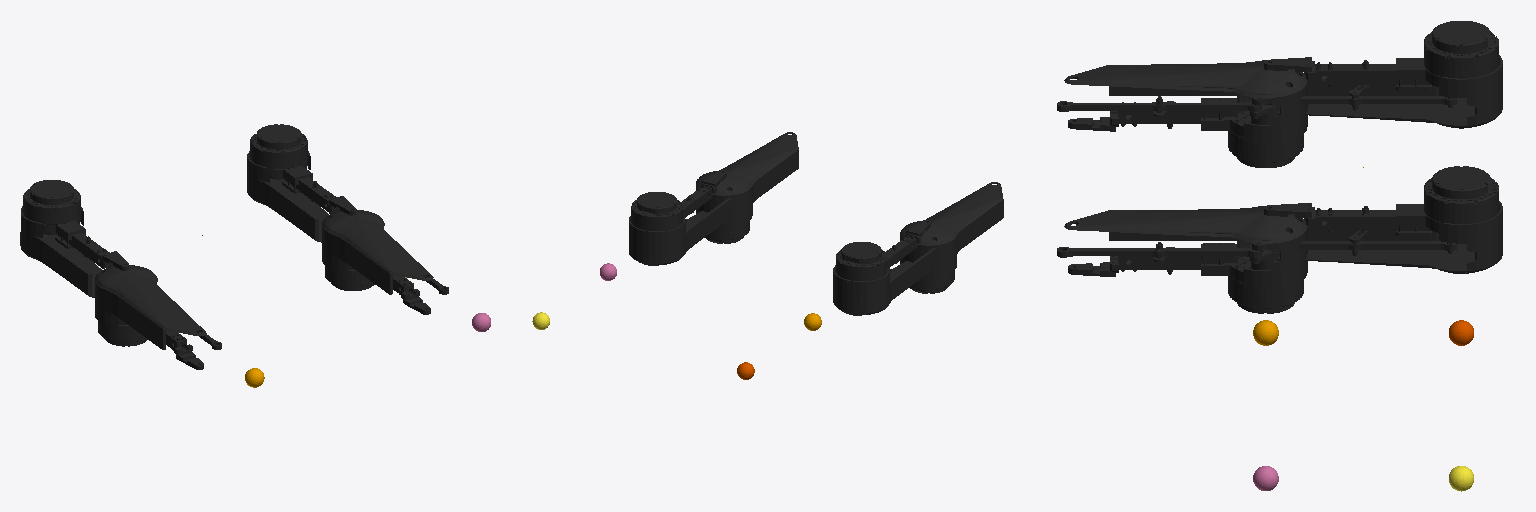
URDF robot description (laikago_description):
<?xml version="1.0" ?>
<robot name="laikago_description" xmlns:xacro="http://www.ros.org/wiki/xacro">
  <material name="black">
    <color rgba="0.0 0.0 0.0 1.0"/>
  </material>
  <material name="blue">
    <color rgba="0.0 0.0 0.8 1.0"/>
  </material>
  <material name="green">
    <color rgba="0.0 0.8 0.0 1.0"/>
  </material>
  <material name="grey">
    <color rgba="0.2 0.2 0.2 1.0"/>
  </material>
  <material name="silver">
    <color rgba="0.913725490196 0.913725490196 0.847058823529 1.0"/>
  </material>
  <material name="orange">
    <color rgba="1.0 0.423529411765 0.0392156862745 1.0"/>
  </material>
  <material name="brown">
    <color rgba="0.870588235294 0.811764705882 0.764705882353 1.0"/>
  </material>
  <material name="red">
    <color rgba="0.8 0.0 0.0 1.0"/>
  </material>
  <material name="white">
    <color rgba="1.0 1.0 1.0 1.0"/>
  </material>
  <link name="base">
    <visual>
      <origin rpy="0 0 0" xyz="0 0 0"/>
      <geometry>
        <box size="0.001 0.001 0.001"/>
      </geometry>
    </visual>
  </link>
  <joint name="floating_base" type="fixed">
    <origin rpy="0 0 0" xyz="0 0 0"/>
    <parent link="base"/>
    <child link="trunk"/>
  </joint>
  <link name="trunk">
    <visual>
      <origin rpy="0 0 0" xyz="0 0 0"/>
      <geometry>
        <mesh filename="../meshes/trunk.dae" scale="1 1 1"/>
      </geometry>
      <material name="grey"/>
    </visual>
    <collision>
      <origin rpy="0 0 0" xyz="0 0 0.01675"/>
      <geometry>
        <box size="0.5616 0.172 0.1875"/>
      </geometry>
    </collision>
    <inertial>
      <origin rpy="0 0 0" xyz="0.002284 -4.1e-05 0.025165"/>
      <mass value="13.733"/>
      <inertia ixx="0.073348887" ixy="0.00030338" ixz="0.001918218" iyy="0.250684593" iyz="-7.5402e-05" izz="0.254469458"/>
    </inertial>
  </link>
  <joint name="FR_hip_joint" type="revolute">
    <origin rpy="0 0 0" xyz="0.21935 -0.0875 0"/>
    <parent link="trunk"/>
    <child link="FR_hip"/>
    <axis xyz="1 0 0"/>
    <dynamics damping="0" friction="0"/>
    <limit effort="20" lower="-1.0471975512" upper="0.872664625997" velocity="52.4"/>
  </joint>
  <link name="FR_hip">
    <visual>
      <origin rpy="1.57079632679 0 0" xyz="0 0 0"/>
      <geometry>
        <mesh filename="../meshes/hip.dae" scale="1 1 1"/>
      </geometry>
      <material name="grey"/>
    </visual>
    <collision>
      <origin rpy="1.57079632679 0 0" xyz="0 0.021 0"/>
      <geometry>
        <cylinder length="0.08" radius="0.041"/>
      </geometry>
    </collision>
    <inertial>
      <origin rpy="0 0 0" xyz="-0.001568 0.008134 0.000864"/>
      <mass value="1.096"/>
      <inertia ixx="0.000822113" ixy="4.982e-06" ixz="-3.672e-05" iyy="0.000983196" iyz="-2.811e-06" izz="0.000864753"/>
    </inertial>
  </link>
  <joint name="FR_hip_fixed" type="fixed">
    <origin rpy="0 0 0" xyz="0 -0.059 0"/>
    <parent link="FR_hip"/>
    <child link="FR_thigh_shoulder"/>
  </joint>
  <!-- this link is only for collision -->
  <link name="FR_thigh_shoulder">
    <collision>
      <origin rpy="1.57079632679 0 0" xyz="0 0 0"/>
      <geometry>
        <cylinder length="0.08" radius="0.044"/>
      </geometry>
    </collision>
  </link>
  <joint name="FR_thigh_joint" type="revolute">
    <origin rpy="0 0 0" xyz="0 -0.037 0"/>
    <parent link="FR_hip"/>
    <child link="FR_thigh"/>
    <axis xyz="0 1 0"/>
    <dynamics damping="0" friction="0"/>
    <limit effort="55" lower="-0.523598775598" upper="3.92699081699" velocity="28.6"/>
  </joint>
  <link name="FR_thigh">
    <visual>
      <origin rpy="-1.57079632679 0 0" xyz="0 0 0"/>
      <geometry>
        <mesh filename="../meshes/thigh_mirror.dae" scale="1 1 1"/>
      </geometry>
      <material name="grey"/>
    </visual>
    <collision>
      <origin rpy="0 1.57079632679 0" xyz="0 0 -0.125"/>
      <geometry>
        <box size="0.25 0.034 0.043"/>
      </geometry>
    </collision>
    <inertial>
      <origin rpy="0 0 0" xyz="-0.000482 -0.02001 -0.031996"/>
      <mass value="1.528"/>
      <inertia ixx="0.00991611" ixy="-1.0388e-05" ixz="0.000250428" iyy="0.009280083" iyz="8.511e-05" izz="0.00178256"/>
    </inertial>
  </link>
  <joint name="FR_calf_joint" type="revolute">
    <origin rpy="0 0 0" xyz="0 0 -0.25"/>
    <parent link="FR_thigh"/>
    <child link="FR_calf"/>
    <axis xyz="0 1 0"/>
    <dynamics damping="0" friction="0"/>
    <limit effort="55" lower="-2.77507351067" upper="-0.610865238198" velocity="28.6"/>
  </joint>
  <link name="FR_calf">
    <visual>
      <origin rpy="0 0 0" xyz="0 0 0"/>
      <geometry>
        <mesh filename="../meshes/calf.dae" scale="1 1 1"/>
      </geometry>
      <material name="silver"/>
    </visual>
    <collision>
      <origin rpy="0 1.57079632679 0" xyz="0 0 -0.125"/>
      <geometry>
        <box size="0.25 0.016 0.016"/>
      </geometry>
    </collision>
    <inertial>
      <origin rpy="0 0 0" xyz="-0.002196 -0.000381 -0.12338"/>
      <mass value="0.241"/>
      <inertia ixx="0.006181961" ixy="2.37e-07" ixz="-2.985e-06" iyy="0.006196546" iyz="5.138e-06" izz="3.4774e-05"/>
    </inertial>
  </link>
  <joint name="FR_foot_fixed" type="fixed" dont_collapse="true">
    <origin rpy="0 0 0" xyz="0 0 -0.25"/>
    <parent link="FR_calf"/>
    <child link="FR_foot"/>
  </joint>
  <link name="FR_foot">
    <visual>
      <origin rpy="0 0 0" xyz="0 0 0"/>
      <geometry>
        <sphere radius="0.0165"/>
      </geometry>
    </visual>
    <collision>
      <origin rpy="0 0 0" xyz="0 0 0"/>
      <geometry>
        <sphere radius="0.0265"/>
      </geometry>
    </collision>
    <inertial>
      <mass value="0.06"/>
      <inertia ixx="1.6854e-05" ixy="0.0" ixz="0.0" iyy="1.6854e-05" iyz="0.0" izz="1.6854e-05"/>
    </inertial>
  </link>

  <joint name="FL_hip_joint" type="revolute">
    <origin rpy="0 0 0" xyz="0.21935 0.0875 0"/>
    <parent link="trunk"/>
    <child link="FL_hip"/>
    <axis xyz="1 0 0"/>
    <dynamics damping="0" friction="0"/>
    <limit effort="20" lower="-0.872664625997" upper="1.0471975512" velocity="52.4"/>
  </joint>
  <link name="FL_hip">
    <visual>
      <origin rpy="-1.57079632679 0 0" xyz="0 0 0"/>
      <geometry>
        <mesh filename="../meshes/hip.dae" scale="1 1 1"/>
      </geometry>
      <material name="grey"/>
    </visual>
    <collision>
      <origin rpy="1.57079632679 0 0" xyz="0 -0.021 0"/>
      <geometry>
        <cylinder length="0.08" radius="0.041"/>
      </geometry>
    </collision>
    <inertial>
      <origin rpy="0 0 0" xyz="-0.001568 -0.008134 0.000864"/>
      <mass value="1.096"/>
      <inertia ixx="0.000822113" ixy="-4.982e-06" ixz="-3.672e-05" iyy="0.000983196" iyz="2.811e-06" izz="0.000864753"/>
    </inertial>
  </link>
  <joint name="FL_hip_fixed" type="fixed">
    <origin rpy="0 0 0" xyz="0 0.059 0"/>
    <parent link="FL_hip"/>
    <child link="FL_thigh_shoulder"/>
  </joint>
  <!-- this link is only for collision -->
  <link name="FL_thigh_shoulder">
    <collision>
      <origin rpy="1.57079632679 0 0" xyz="0 0 0"/>
      <geometry>
        <cylinder length="0.08" radius="0.044"/>
      </geometry>
    </collision>
  </link>
  <joint name="FL_thigh_joint" type="revolute">
    <origin rpy="0 0 0" xyz="0 0.037 0"/>
    <parent link="FL_hip"/>
    <child link="FL_thigh"/>
    <axis xyz="0 1 0"/>
    <dynamics damping="0" friction="0"/>
    <limit effort="55" lower="-0.523598775598" upper="3.92699081699" velocity="28.6"/>
  </joint>
  <link name="FL_thigh">
    <visual>
      <origin rpy="-1.57079632679 0 0" xyz="0 0 0"/>
      <geometry>
        <mesh filename="../meshes/thigh.dae" scale="1 1 1"/>
      </geometry>
      <material name="grey"/>
    </visual>
    <collision>
      <origin rpy="0 1.57079632679 0" xyz="0 0 -0.125"/>
      <geometry>
        <box size="0.25 0.034 0.043"/>
      </geometry>
    </collision>
    <inertial>
      <origin rpy="0 0 0" xyz="-0.000482 0.02001 -0.031996"/>
      <mass value="1.528"/>
      <inertia ixx="0.00991611" ixy="1.0388e-05" ixz="0.000250428" iyy="0.009280083" iyz="-8.511e-05" izz="0.00178256"/>
    </inertial>
  </link>
  <joint name="FL_calf_joint" type="revolute">
    <origin rpy="0 0 0" xyz="0 0 -0.25"/>
    <parent link="FL_thigh"/>
    <child link="FL_calf"/>
    <axis xyz="0 1 0"/>
    <dynamics damping="0" friction="0"/>
    <limit effort="55" lower="-2.77507351067" upper="-0.610865238198" velocity="28.6"/>
  </joint>
  <link name="FL_calf">
    <visual>
      <origin rpy="0 0 0" xyz="0 0 0"/>
      <geometry>
        <mesh filename="../meshes/calf.dae" scale="1 1 1"/>
      </geometry>
      <material name="silver"/>
    </visual>
    <collision>
      <origin rpy="0 1.57079632679 0" xyz="0 0 -0.125"/>
      <geometry>
        <box size="0.25 0.016 0.016"/>
      </geometry>
    </collision>
    <inertial>
      <origin rpy="0 0 0" xyz="-0.002196 -0.000381 -0.12338"/>
      <mass value="0.241"/>
      <inertia ixx="0.006181961" ixy="2.37e-07" ixz="-2.985e-06" iyy="0.006196546" iyz="5.138e-06" izz="3.4774e-05"/>
    </inertial>
  </link>
  <joint name="FL_foot_fixed" type="fixed" dont_collapse="true">
    <origin rpy="0 0 0" xyz="0 0 -0.25"/>
    <parent link="FL_calf"/>
    <child link="FL_foot"/>
  </joint>
  <link name="FL_foot">
    <visual>
      <origin rpy="0 0 0" xyz="0 0 0"/>
      <geometry>
        <sphere radius="0.0165"/>
      </geometry>
    </visual>
    <collision>
      <origin rpy="0 0 0" xyz="0 0 0"/>
      <geometry>
        <sphere radius="0.0265"/>
      </geometry>
    </collision>
    <inertial>
      <mass value="0.06"/>
      <inertia ixx="1.6854e-05" ixy="0.0" ixz="0.0" iyy="1.6854e-05" iyz="0.0" izz="1.6854e-05"/>
    </inertial>
  </link>
  
  <joint name="RR_hip_joint" type="revolute">
    <origin rpy="0 0 0" xyz="-0.21935 -0.0875 0"/>
    <parent link="trunk"/>
    <child link="RR_hip"/>
    <axis xyz="1 0 0"/>
    <dynamics damping="0" friction="0"/>
    <limit effort="20" lower="-1.0471975512" upper="0.872664625997" velocity="52.4"/>
  </joint>
  <link name="RR_hip">
    <visual>
      <origin rpy="1.57079632679 3.14159265359 0" xyz="0 0 0"/>
      <geometry>
        <mesh filename="../meshes/hip.dae" scale="1 1 1"/>
      </geometry>
      <material name="grey"/>
    </visual>
    <collision>
      <origin rpy="1.57079632679 0 0" xyz="0 0.021 0"/>
      <geometry>
        <cylinder length="0.08" radius="0.041"/>
      </geometry>
    </collision>
    <inertial>
      <origin rpy="0 0 0" xyz="0.001568 0.008134 0.000864"/>
      <mass value="1.096"/>
      <inertia ixx="0.000822113" ixy="-4.982e-06" ixz="3.672e-05" iyy="0.000983196" iyz="-2.811e-06" izz="0.000864753"/>
    </inertial>
  </link>
  <joint name="RR_hip_fixed" type="fixed">
    <origin rpy="0 0 0" xyz="0 -0.059 0"/>
    <parent link="RR_hip"/>
    <child link="RR_thigh_shoulder"/>
  </joint>
  <!-- this link is only for collision -->
  <link name="RR_thigh_shoulder">
    <collision>
      <origin rpy="1.57079632679 0 0" xyz="0 0 0"/>
      <geometry>
        <cylinder length="0.08" radius="0.044"/>
      </geometry>
    </collision>
  </link>
  <joint name="RR_thigh_joint" type="revolute">
    <origin rpy="0 0 0" xyz="0 -0.037 0"/>
    <parent link="RR_hip"/>
    <child link="RR_thigh"/>
    <axis xyz="0 1 0"/>
    <dynamics damping="0" friction="0"/>
    <limit effort="55" lower="-0.523598775598" upper="3.92699081699" velocity="28.6"/>
  </joint>
  <link name="RR_thigh">
    <visual>
      <origin rpy="-1.57079632679 0 0" xyz="0 0 0"/>
      <geometry>
        <mesh filename="../meshes/thigh_mirror.dae" scale="1 1 1"/>
      </geometry>
      <material name="grey"/>
    </visual>
    <collision>
      <origin rpy="0 1.57079632679 0" xyz="0 0 -0.125"/>
      <geometry>
        <box size="0.25 0.034 0.043"/>
      </geometry>
    </collision>
    <inertial>
      <origin rpy="0 0 0" xyz="-0.000482 -0.02001 -0.031996"/>
      <mass value="1.528"/>
      <inertia ixx="0.00991611" ixy="-1.0388e-05" ixz="0.000250428" iyy="0.009280083" iyz="8.511e-05" izz="0.00178256"/>
    </inertial>
  </link>
  <joint name="RR_calf_joint" type="revolute">
    <origin rpy="0 0 0" xyz="0 0 -0.25"/>
    <parent link="RR_thigh"/>
    <child link="RR_calf"/>
    <axis xyz="0 1 0"/>
    <dynamics damping="0" friction="0"/>
    <limit effort="55" lower="-2.77507351067" upper="-0.610865238198" velocity="28.6"/>
  </joint>
  <link name="RR_calf">
    <visual>
      <origin rpy="0 0 0" xyz="0 0 0"/>
      <geometry>
        <mesh filename="../meshes/calf.dae" scale="1 1 1"/>
      </geometry>
      <material name="silver"/>
    </visual>
    <collision>
      <origin rpy="0 1.57079632679 0" xyz="0 0 -0.125"/>
      <geometry>
        <box size="0.25 0.016 0.016"/>
      </geometry>
    </collision>
    <inertial>
      <origin rpy="0 0 0" xyz="-0.002196 -0.000381 -0.12338"/>
      <mass value="0.241"/>
      <inertia ixx="0.006181961" ixy="2.37e-07" ixz="-2.985e-06" iyy="0.006196546" iyz="5.138e-06" izz="3.4774e-05"/>
    </inertial>
  </link>
  <joint name="RR_foot_fixed" type="fixed" dont_collapse="true">
    <origin rpy="0 0 0" xyz="0 0 -0.25"/>
    <parent link="RR_calf"/>
    <child link="RR_foot"/>
  </joint>
  <link name="RR_foot">
    <visual>
      <origin rpy="0 0 0" xyz="0 0 0"/>
      <geometry>
        <sphere radius="0.0165"/>
      </geometry>
    </visual>
    <collision>
      <origin rpy="0 0 0" xyz="0 0 0"/>
      <geometry>
        <sphere radius="0.0265"/>
      </geometry>
    </collision>
    <inertial>
      <mass value="0.06"/>
      <inertia ixx="1.6854e-05" ixy="0.0" ixz="0.0" iyy="1.6854e-05" iyz="0.0" izz="1.6854e-05"/>
    </inertial>
  </link>
  
  <joint name="RL_hip_joint" type="revolute">
    <origin rpy="0 0 0" xyz="-0.21935 0.0875 0"/>
    <parent link="trunk"/>
    <child link="RL_hip"/>
    <axis xyz="1 0 0"/>
    <dynamics damping="0" friction="0"/>
    <limit effort="20" lower="-0.872664625997" upper="1.0471975512" velocity="52.4"/>
  </joint>
  <link name="RL_hip">
    <visual>
      <origin rpy="-1.57079632679 3.14159265359 0" xyz="0 0 0"/>
      <geometry>
        <mesh filename="../meshes/hip.dae" scale="1 1 1"/>
      </geometry>
      <material name="grey"/>
    </visual>
    <collision>
      <origin rpy="1.57079632679 0 0" xyz="0 -0.021 0"/>
      <geometry>
        <cylinder length="0.08" radius="0.041"/>
      </geometry>
    </collision>
    <inertial>
      <origin rpy="0 0 0" xyz="0.001568 -0.008134 0.000864"/>
      <mass value="1.096"/>
      <inertia ixx="0.000822113" ixy="4.982e-06" ixz="3.672e-05" iyy="0.000983196" iyz="2.811e-06" izz="0.000864753"/>
    </inertial>
  </link>
  <joint name="RL_hip_fixed" type="fixed">
    <origin rpy="0 0 0" xyz="0 0.059 0"/>
    <parent link="RL_hip"/>
    <child link="RL_thigh_shoulder"/>
  </joint>
  <!-- this link is only for collision -->
  <link name="RL_thigh_shoulder">
    <collision>
      <origin rpy="1.57079632679 0 0" xyz="0 0 0"/>
      <geometry>
        <cylinder length="0.08" radius="0.044"/>
      </geometry>
    </collision>
  </link>
  <joint name="RL_thigh_joint" type="revolute">
    <origin rpy="0 0 0" xyz="0 0.037 0"/>
    <parent link="RL_hip"/>
    <child link="RL_thigh"/>
    <axis xyz="0 1 0"/>
    <dynamics damping="0" friction="0"/>
    <limit effort="55" lower="-0.523598775598" upper="3.92699081699" velocity="28.6"/>
  </joint>
  <link name="RL_thigh">
    <visual>
      <origin rpy="-1.57079632679 0 0" xyz="0 0 0"/>
      <geometry>
        <mesh filename="../meshes/thigh.dae" scale="1 1 1"/>
      </geometry>
      <material name="grey"/>
    </visual>
    <collision>
      <origin rpy="0 1.57079632679 0" xyz="0 0 -0.125"/>
      <geometry>
        <box size="0.25 0.034 0.043"/>
      </geometry>
    </collision>
    <inertial>
      <origin rpy="0 0 0" xyz="-0.000482 0.02001 -0.031996"/>
      <mass value="1.528"/>
      <inertia ixx="0.00991611" ixy="1.0388e-05" ixz="0.000250428" iyy="0.009280083" iyz="-8.511e-05" izz="0.00178256"/>
    </inertial>
  </link>
  <joint name="RL_calf_joint" type="revolute">
    <origin rpy="0 0 0" xyz="0 0 -0.25"/>
    <parent link="RL_thigh"/>
    <child link="RL_calf"/>
    <axis xyz="0 1 0"/>
    <dynamics damping="0" friction="0"/>
    <limit effort="55" lower="-2.77507351067" upper="-0.610865238198" velocity="28.6"/>
  </joint>
  <link name="RL_calf">
    <visual>
      <origin rpy="0 0 0" xyz="0 0 0"/>
      <geometry>
        <mesh filename="../meshes/calf.dae" scale="1 1 1"/>
      </geometry>
    </visual>
    <collision>
      <origin rpy="0 1.57079632679 0" xyz="0 0 -0.125"/>
      <geometry>
        <box size="0.25 0.016 0.016"/>
      </geometry>
    </collision>
    <inertial>
      <origin rpy="0 0 0" xyz="-0.002196 -0.000381 -0.12338"/>
      <mass value="0.241"/>
      <inertia ixx="0.006181961" ixy="2.37e-07" ixz="-2.985e-06" iyy="0.006196546" iyz="5.138e-06" izz="3.4774e-05"/>
    </inertial>
  </link>
  <joint name="RL_foot_fixed" type="fixed" dont_collapse="true">
    <origin rpy="0 0 0" xyz="0 0 -0.25"/>
    <parent link="RL_calf"/>
    <child link="RL_foot"/>
  </joint>
  <link name="RL_foot">
    <visual>
      <origin rpy="0 0 0" xyz="0 0 0"/>
      <geometry>
        <sphere radius="0.0165"/>
      </geometry>
    </visual>
    <collision>
      <origin rpy="0 0 0" xyz="0 0 0"/>
      <geometry>
        <sphere radius="0.0265"/>
      </geometry>
    </collision>
    <inertial>
      <mass value="0.06"/>
      <inertia ixx="1.6854e-05" ixy="0.0" ixz="0.0" iyy="1.6854e-05" iyz="0.0" izz="1.6854e-05"/>
    </inertial>
  </link>
</robot>

--- Facts derived from the render (not from the file) ---
Views: 3 orthographic renders of the robot side by side, from view 1: azimuth 30°, elevation 25°; view 2: azimuth 150°, elevation 25°; view 3: azimuth 270°, elevation 25°.
Model laikago_description with 22 links and 21 joints (12 revolute, 9 fixed), rooted at base, posed all joints at 0 but 4 set to mid-range because 0 is outside their limits (FR_calf_joint = -1.69, FL_calf_joint = -1.69, RR_calf_joint = -1.69, RL_calf_joint = -1.69).
Links seen in each view (by area): view 1: FR_thigh, RR_thigh, FL_thigh, RL_thigh; view 2: FL_thigh, RL_thigh, RR_thigh, FR_thigh; view 3: RR_thigh, FR_thigh, RL_thigh, FL_thigh, RR_foot.
Boxes of the visible links, left/top/right/bottom form: FR_thigh: left=322, top=209, right=448, bottom=314; RR_thigh: left=95, top=265, right=221, bottom=369; FL_thigh: left=247, top=124, right=355, bottom=242; RL_thigh: left=20, top=180, right=128, bottom=297; FL_thigh: left=629, top=170, right=731, bottom=265; RL_thigh: left=833, top=220, right=935, bottom=315; RR_thigh: left=900, top=182, right=1003, bottom=293; FR_thigh: left=696, top=132, right=798, bottom=243; RR_thigh: left=1057, top=60, right=1307, bottom=167; FR_thigh: left=1057, top=206, right=1307, bottom=313; RL_thigh: left=1252, top=21, right=1502, bottom=128; FL_thigh: left=1252, top=166, right=1502, bottom=273; RR_foot: left=1253, top=320, right=1278, bottom=345.
Bounding box of the posed robot: 0.7562 × 0.5683 × 0.323 m (x, y, z).
Meshes: 5 distinct files referenced, 4 mesh visuals loaded (2 Collada DAE); not drawn: 9 (reference not matched to a file when rendering).